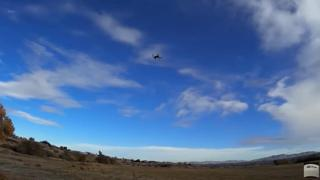UAV: (152, 53, 162, 61)
